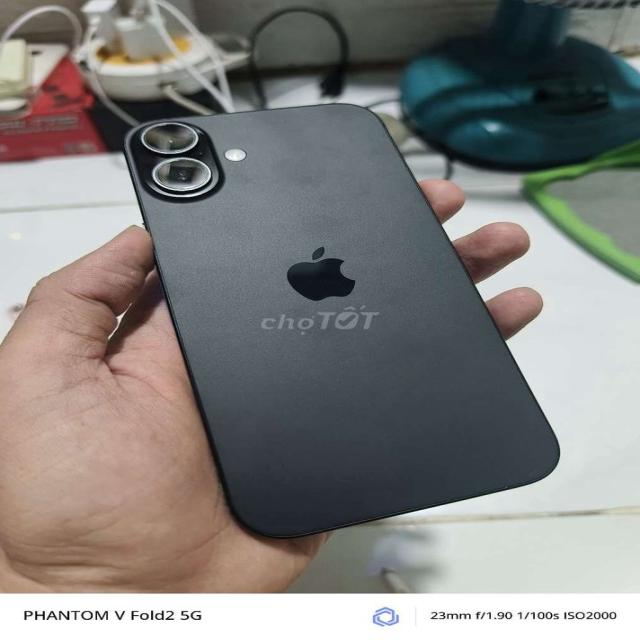gen_16: (126, 104, 558, 538)
